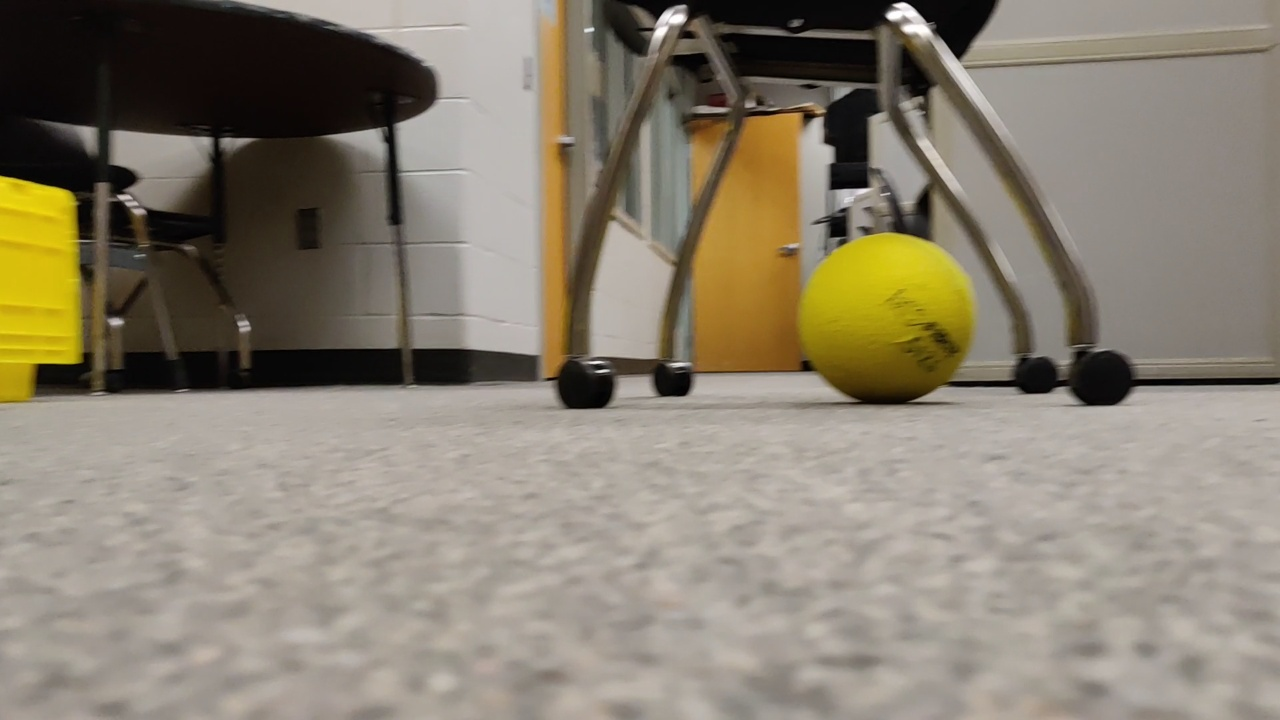Ball: (796, 232, 972, 400)
